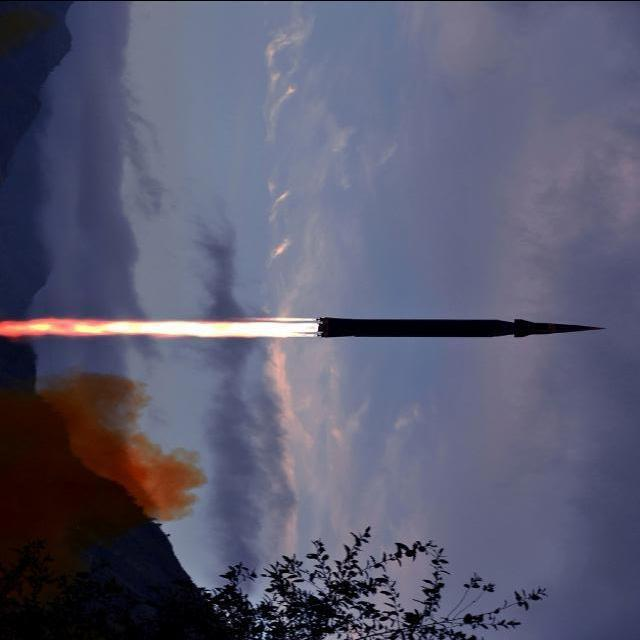Missile: (299, 311, 620, 342)
